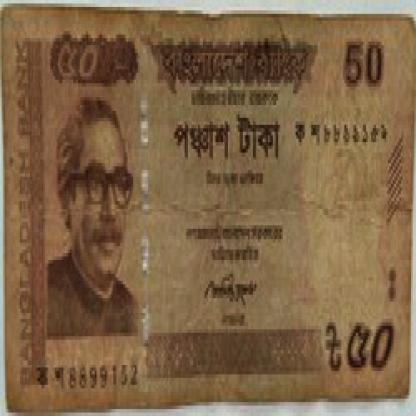Fifty taka: (328, 315, 401, 382), (50, 42, 108, 94)
